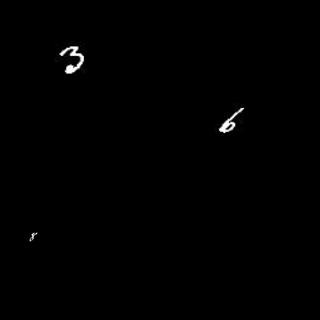eight: (26, 230, 40, 242)
six: (220, 104, 254, 136)
three: (58, 39, 90, 78)
